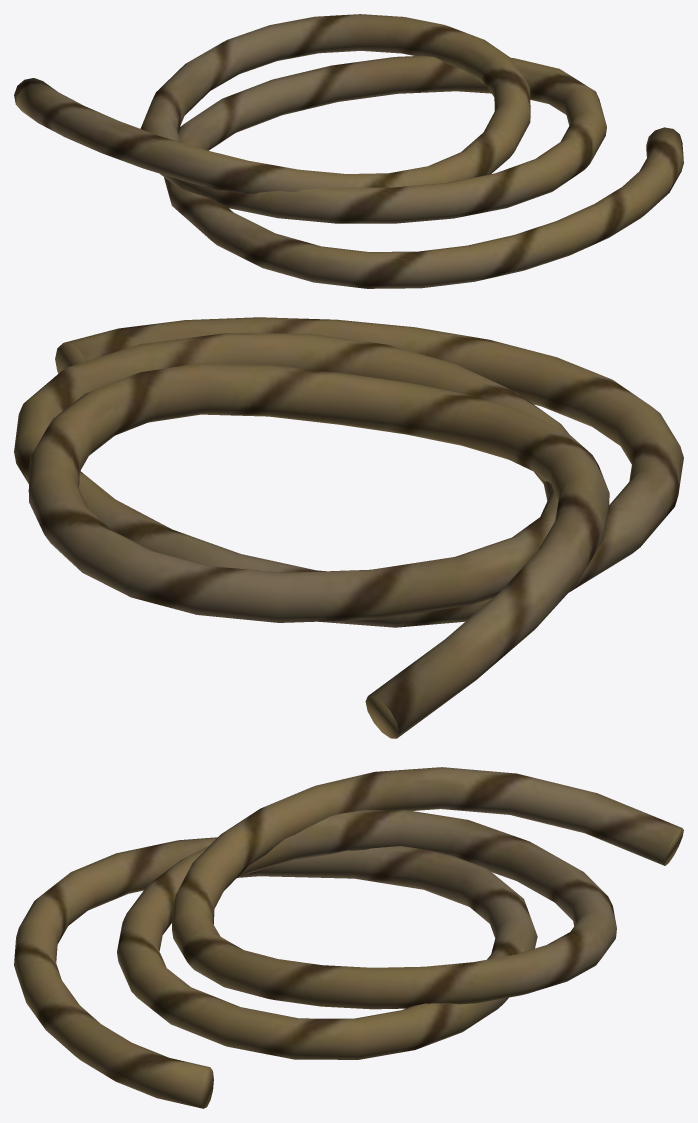
The model's file is quaternius-fantasy-props-rope-2.glb.
3 renders of one model, top to bottom at view 1: azimuth 30°, elevation 25°; view 2: azimuth 150°, elevation 25°; view 3: azimuth 270°, elevation 25°, orthographic. The views are drawn at different scales.
Visible parts, largest first — view 1: Rope_2; view 2: Rope_2; view 3: Rope_2.
Boxes of the visible parts, x1,y1,x2,y2 form: Rope_2: [14, 14, 683, 288]; Rope_2: [14, 317, 683, 738]; Rope_2: [14, 767, 683, 1108].
Size of the model in its own units: 0.7648 by 0.117 by 0.8.
1 material, 1 textured.
